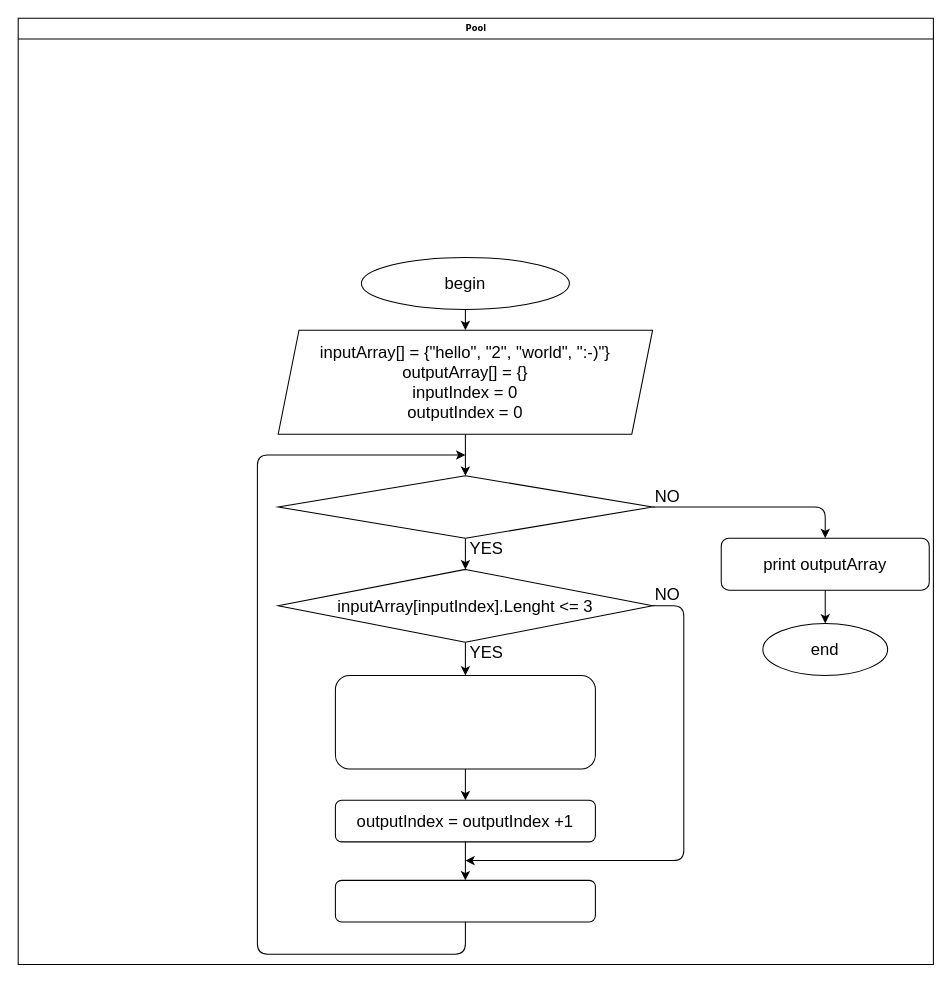
Some shapes in this 952 by 983 pixel diagram are drawn without their labels. Here are the shapes that lost their labels. From the top down, the centre of each, then its label:
At pixel 465 506: "inputIndex < inputArray.Lenght".
At pixel 464 721: "outputArray[ outputIndex ] = inputArray[ inputIndex ]".
At pixel 464 900: "inputIndex = inputIndex +1".
